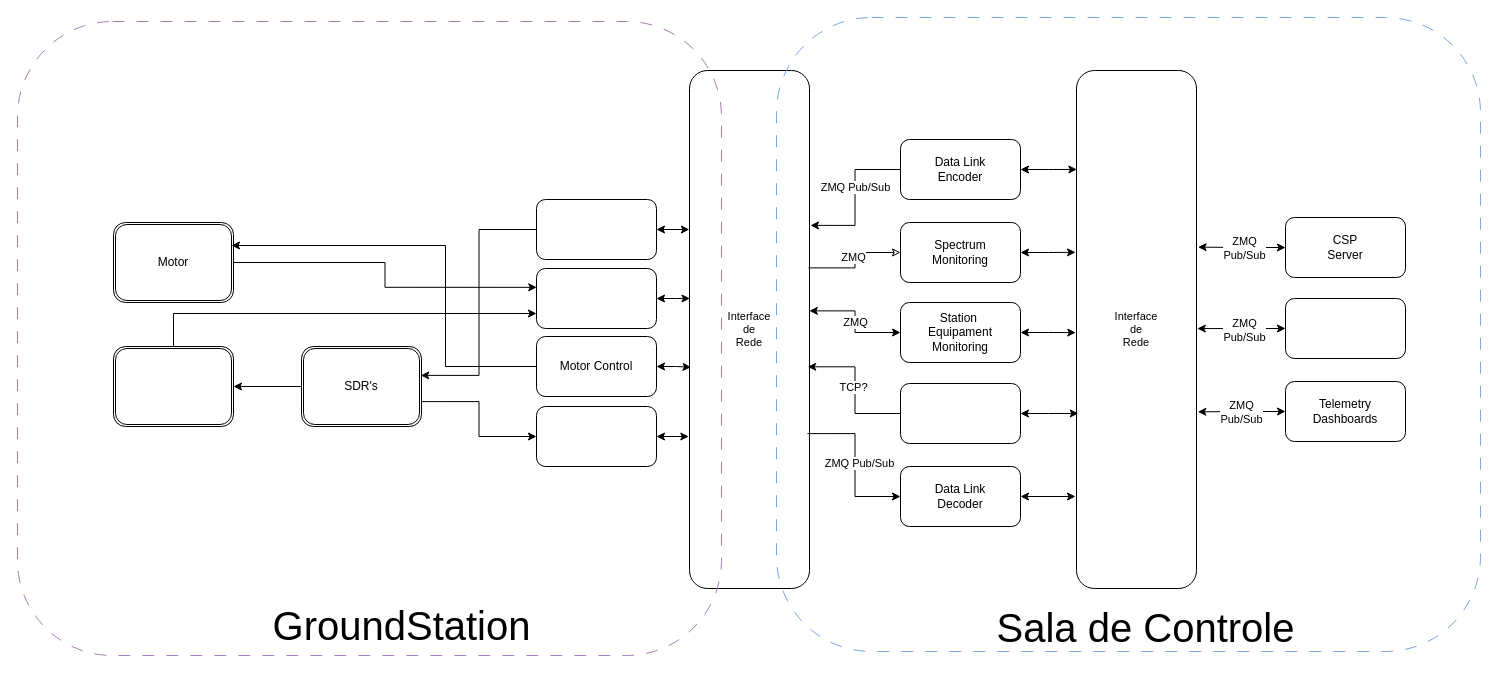
Some shapes in this 1498 by 688 pixel diagram are drawn without their labels. The shapes that lost their labels are listed below. From the top down, each one's box as (x1, y1, x2, y2) in pixels, then its label:
(536, 198, 656, 260): TX Mod
(536, 268, 656, 328): Monitoring Engine
(1284, 298, 1406, 358): SLP Server
(112, 346, 234, 426): LNA/PA
(900, 382, 1020, 444): Gpredict
(536, 406, 656, 466): RX Demod
